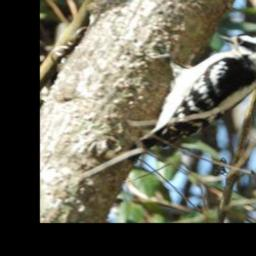Woodpecker: (138, 32, 256, 150)
